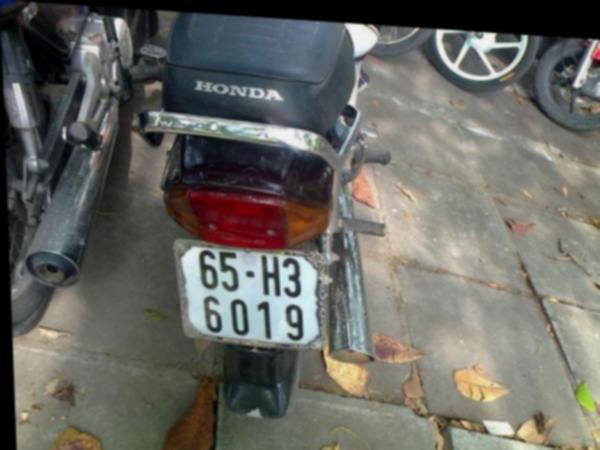License_Plate: (178, 239, 326, 348)
